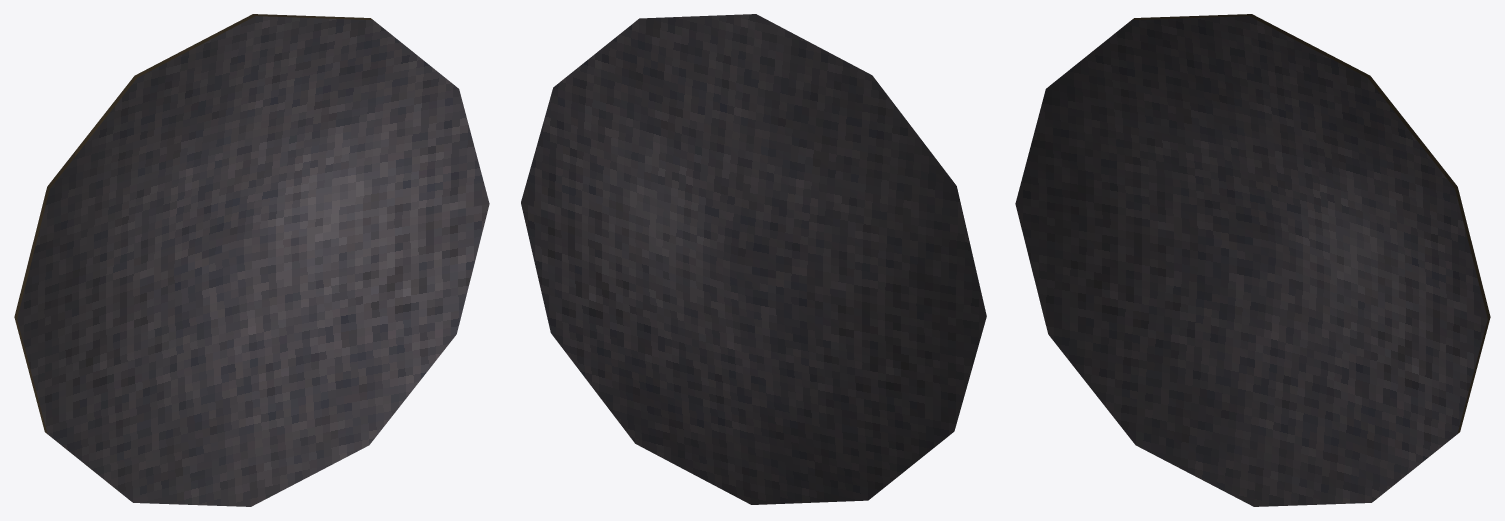
The picture shows the model from 3 angles, left to right: view 1: azimuth 30°, elevation 25°; view 2: azimuth 150°, elevation 25°; view 3: azimuth 330°, elevation 25°; orthographic projection.
Visible parts, largest first — view 1: IT224_DMSPRITEDEF_node; view 2: IT224_DMSPRITEDEF_node; view 3: IT224_DMSPRITEDEF_node.
Boxes of the visible parts, bbox=[...] form: IT224_DMSPRITEDEF_node: bbox=[14, 14, 489, 506]; IT224_DMSPRITEDEF_node: bbox=[521, 14, 986, 504]; IT224_DMSPRITEDEF_node: bbox=[1015, 14, 1490, 506].
Bounding box in the file's own units: 1.52 × 1.52 × 0.1258.
Materials: 2 (2 with a texture image).
